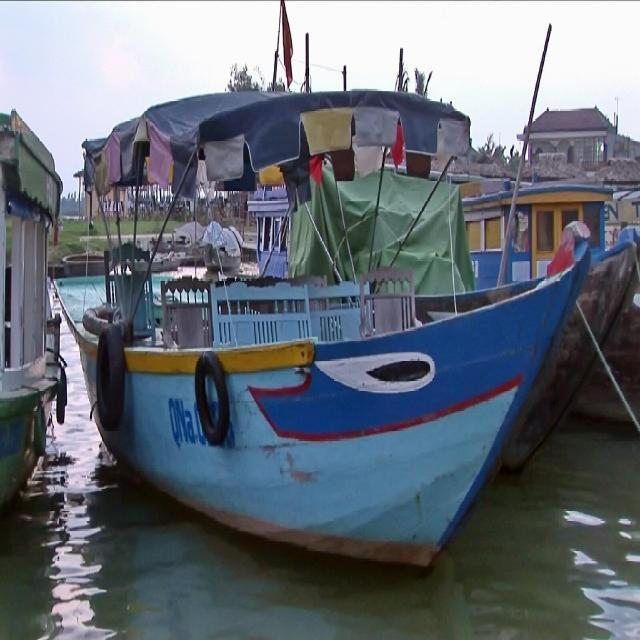boat: (54, 111, 596, 564)
